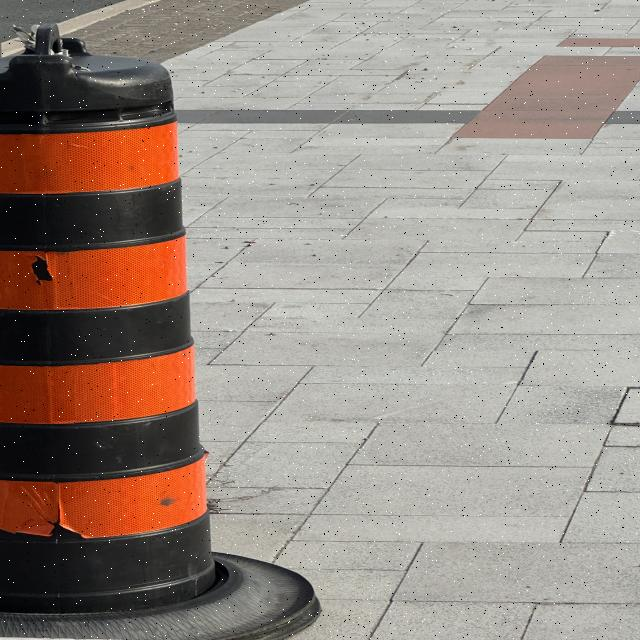Teraffic Barrel: (0, 25, 319, 640)
